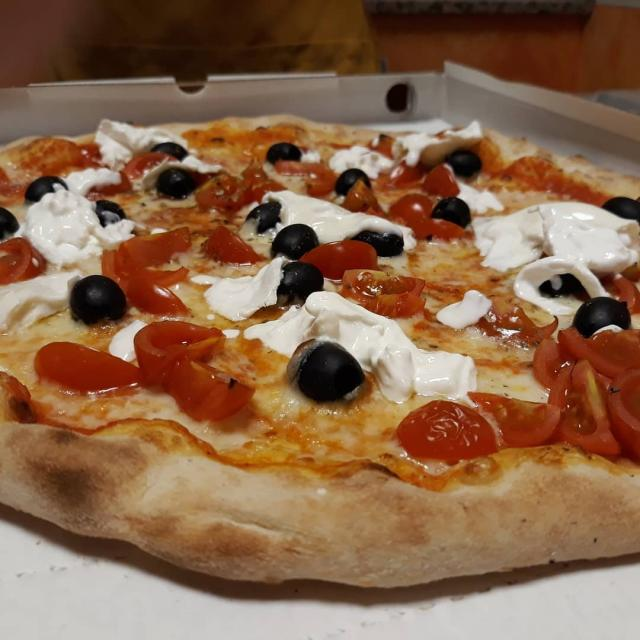black_olives: (286, 339, 365, 401), (69, 275, 126, 324), (573, 296, 631, 338), (271, 224, 319, 260), (277, 261, 324, 297), (351, 230, 404, 257), (431, 196, 471, 228), (156, 168, 195, 198), (246, 201, 282, 233), (25, 176, 67, 203), (539, 274, 584, 298), (445, 150, 483, 177), (602, 196, 640, 223), (335, 169, 371, 195), (95, 200, 126, 227), (266, 143, 302, 163), (152, 142, 188, 160), (0, 207, 19, 240)
pizza: (0, 115, 640, 586)
tomatoes: (549, 360, 620, 456), (396, 400, 499, 464), (166, 359, 254, 421), (35, 342, 143, 392), (144, 196, 244, 246), (102, 228, 192, 278), (341, 268, 425, 318), (135, 321, 224, 365), (389, 194, 465, 240), (557, 328, 640, 368), (120, 267, 189, 315), (496, 398, 562, 448), (300, 240, 377, 280), (607, 368, 640, 460), (275, 160, 338, 197), (0, 237, 46, 284), (425, 164, 460, 197)
